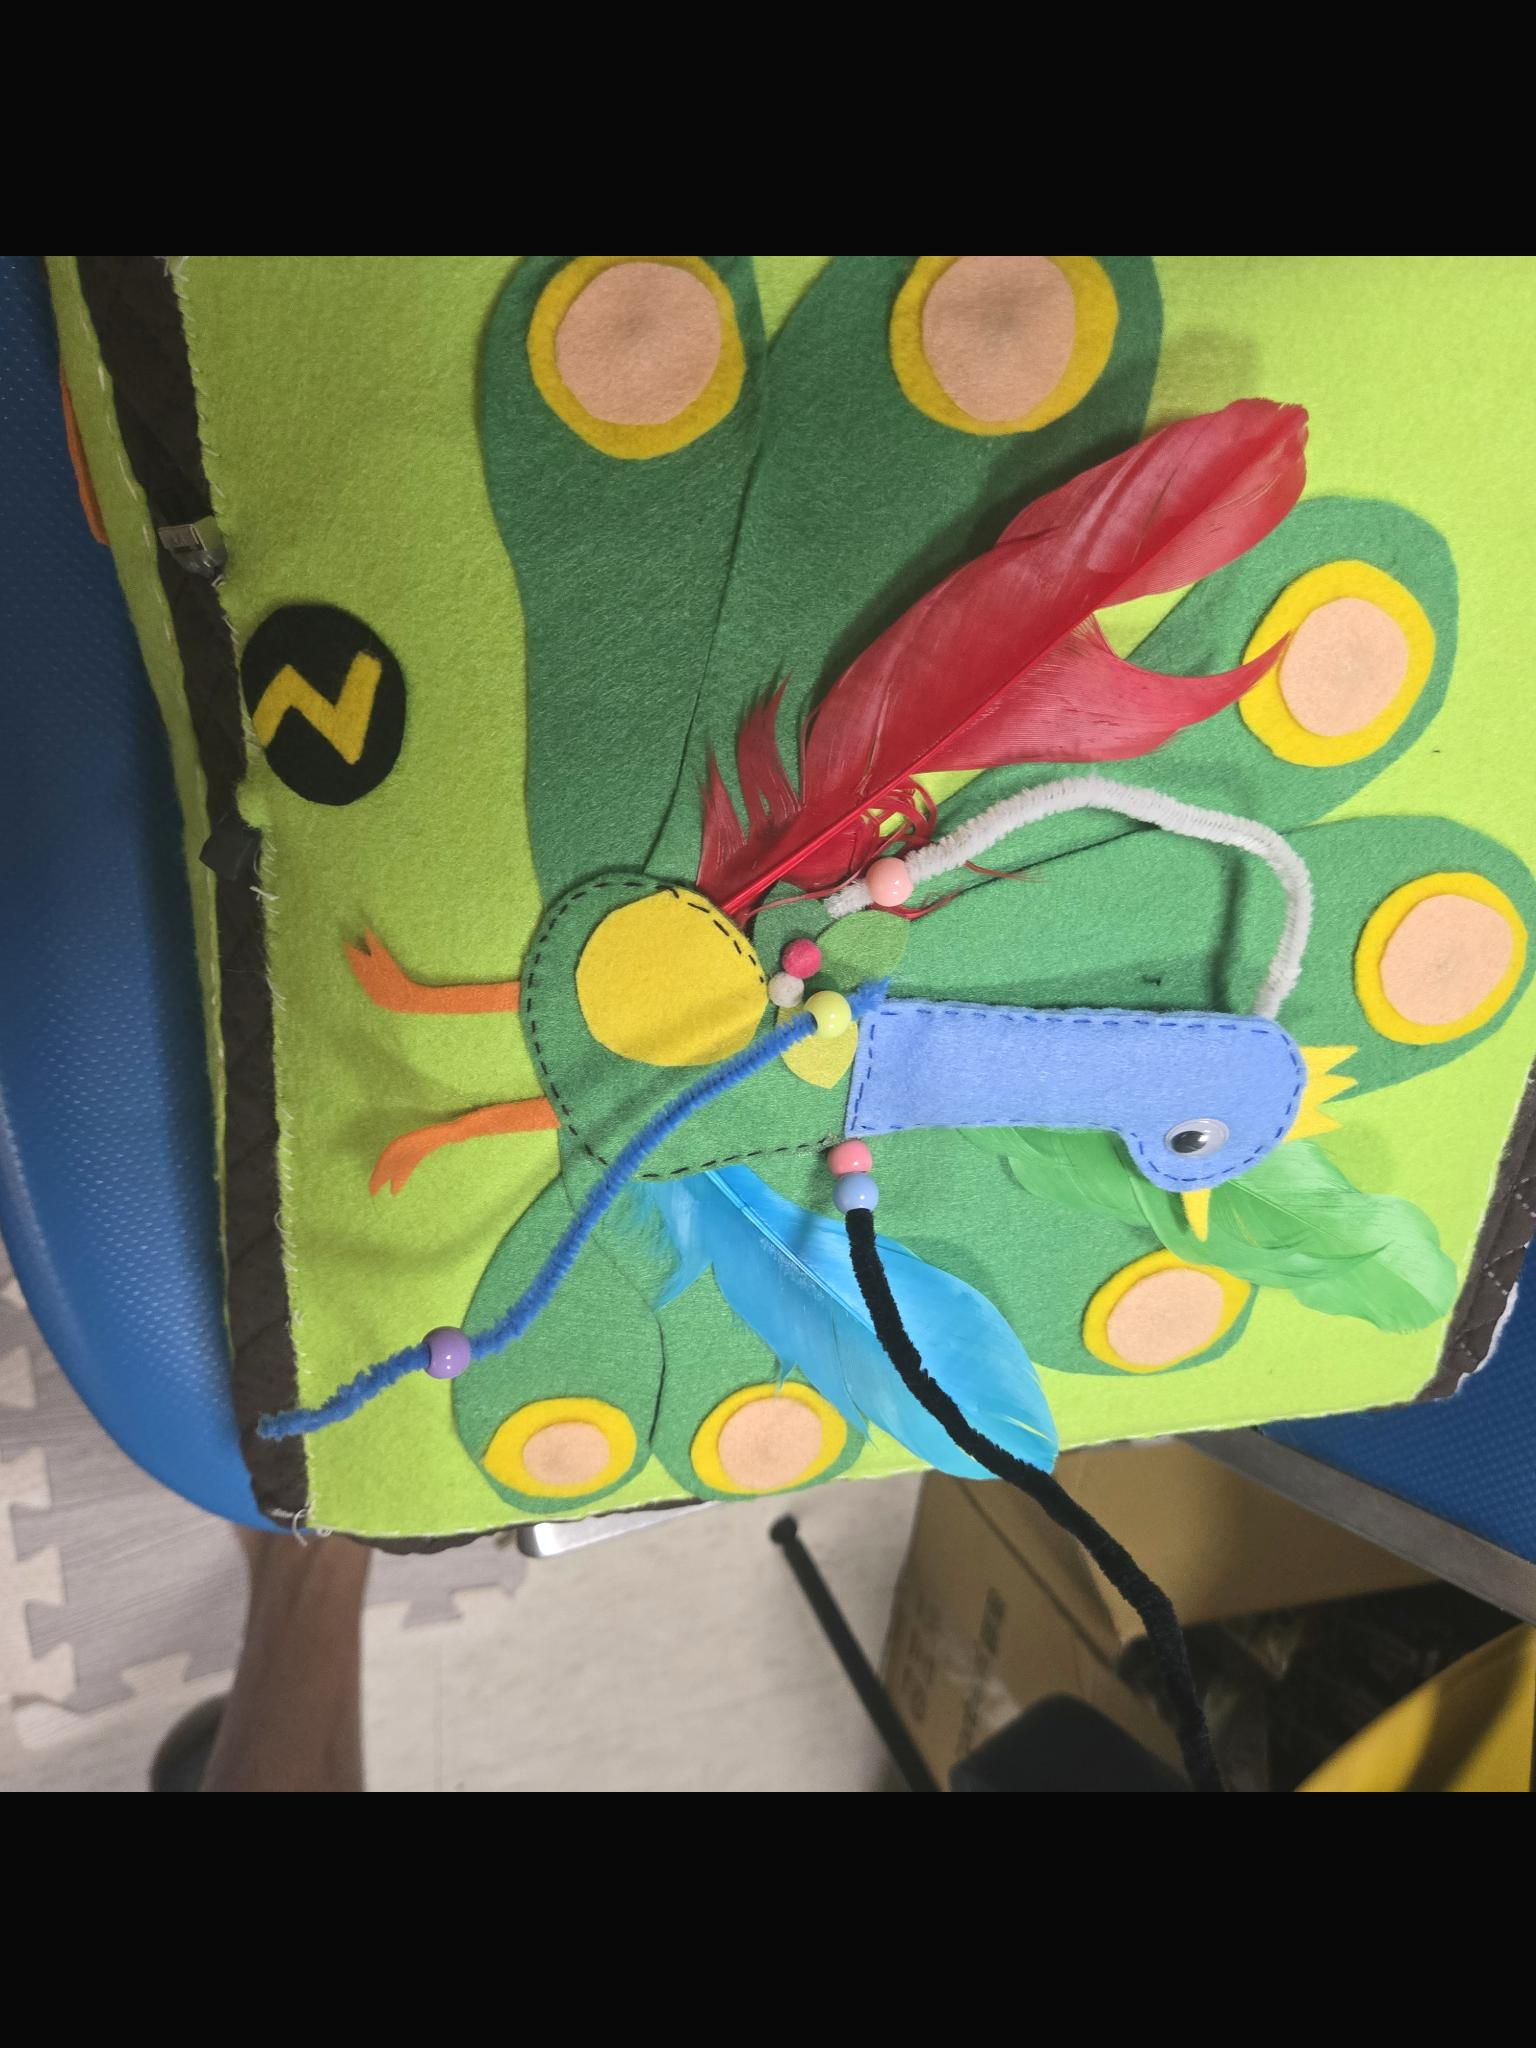bead: (399, 1324, 495, 1393), (844, 848, 920, 932), (802, 1179, 900, 1229), (803, 1130, 884, 1187), (791, 992, 863, 1045)
